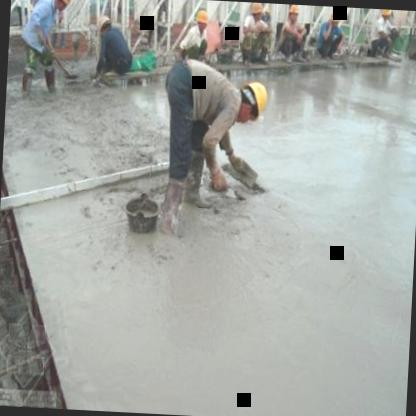helmet: (233, 77, 271, 123), (192, 5, 214, 36), (244, 1, 268, 26), (92, 10, 114, 36), (326, 6, 344, 32), (50, 0, 78, 16), (285, 3, 303, 24), (374, 9, 395, 26)
